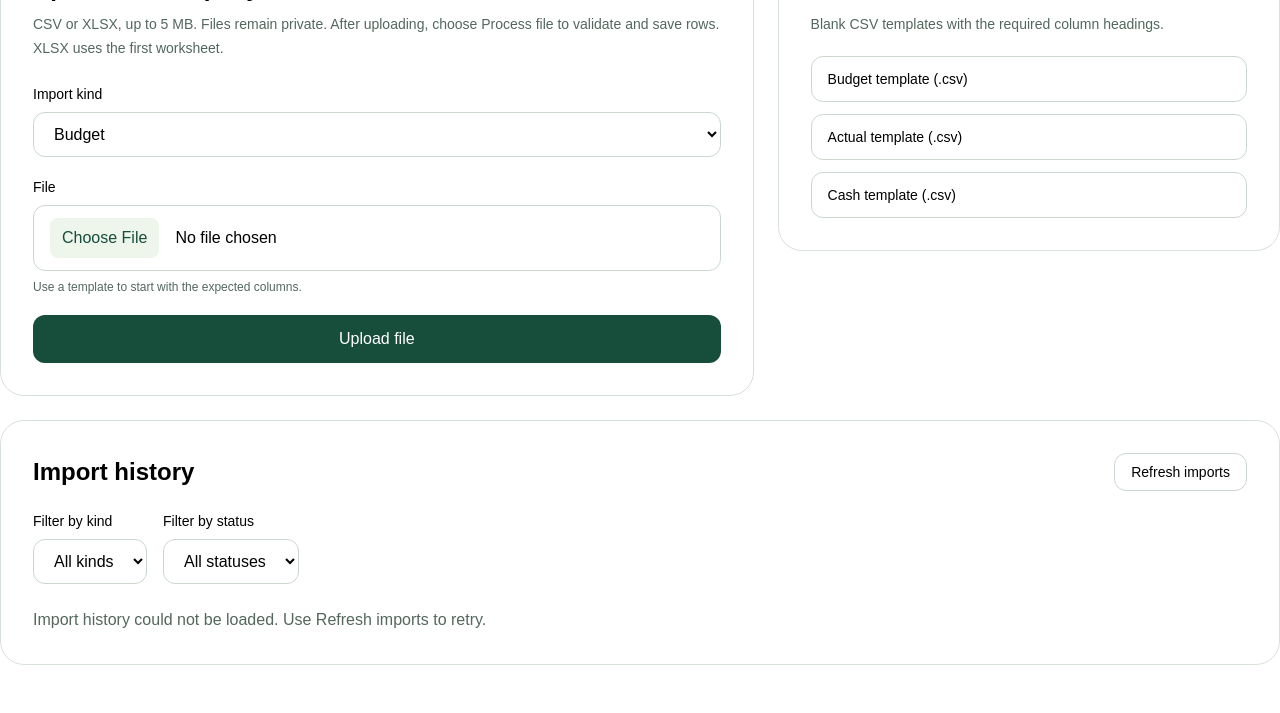
Scenario: history load failure has a working refresh control
(page scrolled)
Click the button "Refresh imports". click: (1181, 472)
box: [1114,453,1247,491]
(page scrolled)
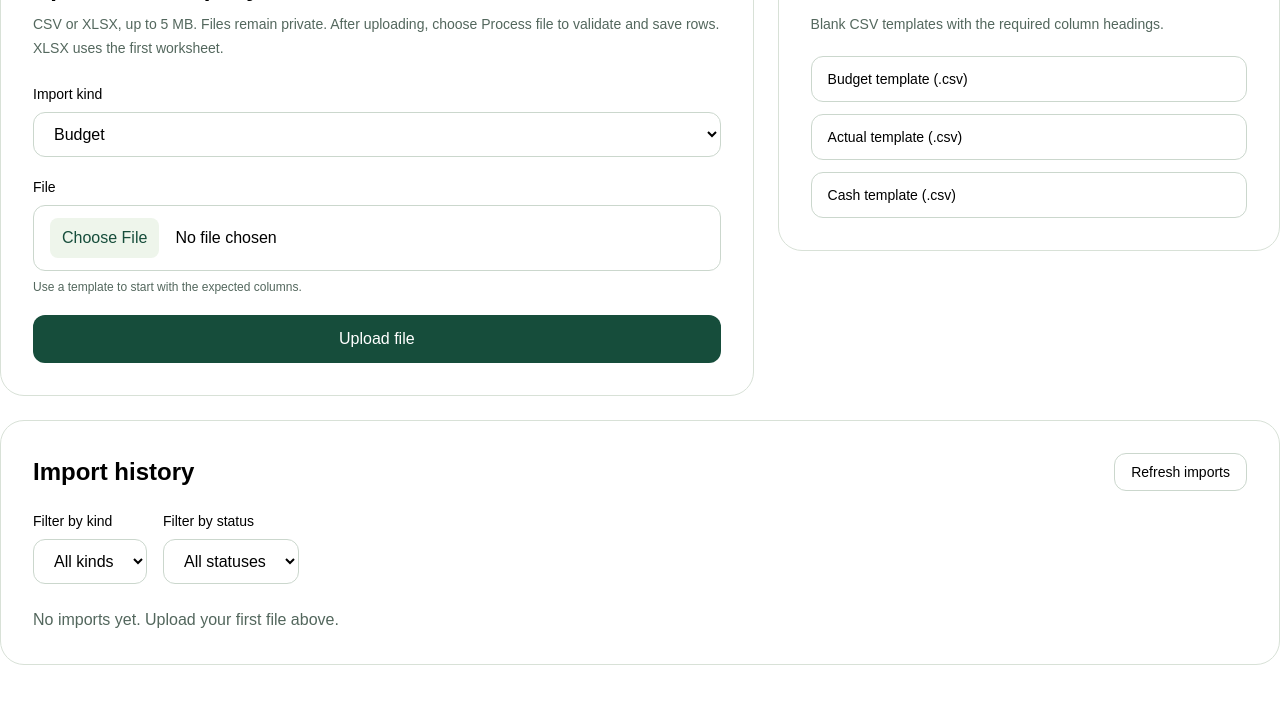
Now the text "No imports yet. Upload your first file above." is shown, box [33,611,339,628]
